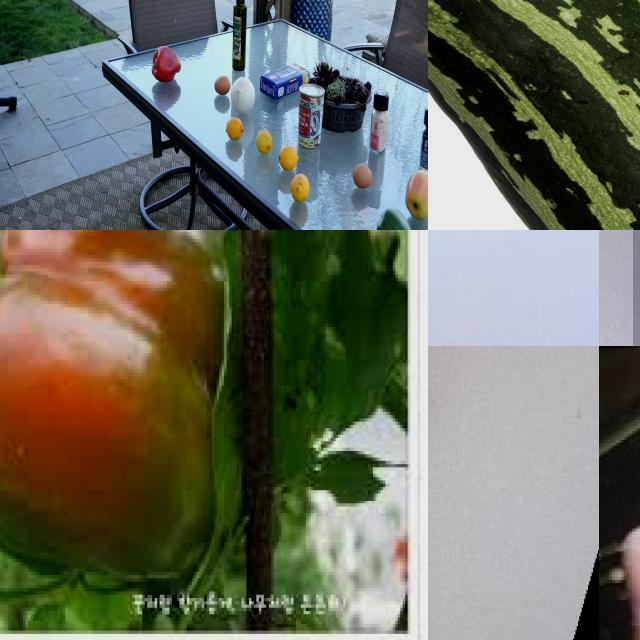bell_pepper: (1, 231, 232, 614), (149, 45, 185, 83), (376, 207, 417, 231), (416, 103, 429, 173)
egg: (351, 162, 375, 192), (212, 74, 232, 102)
onion: (228, 77, 260, 119)
zucchini: (429, 1, 640, 231)
